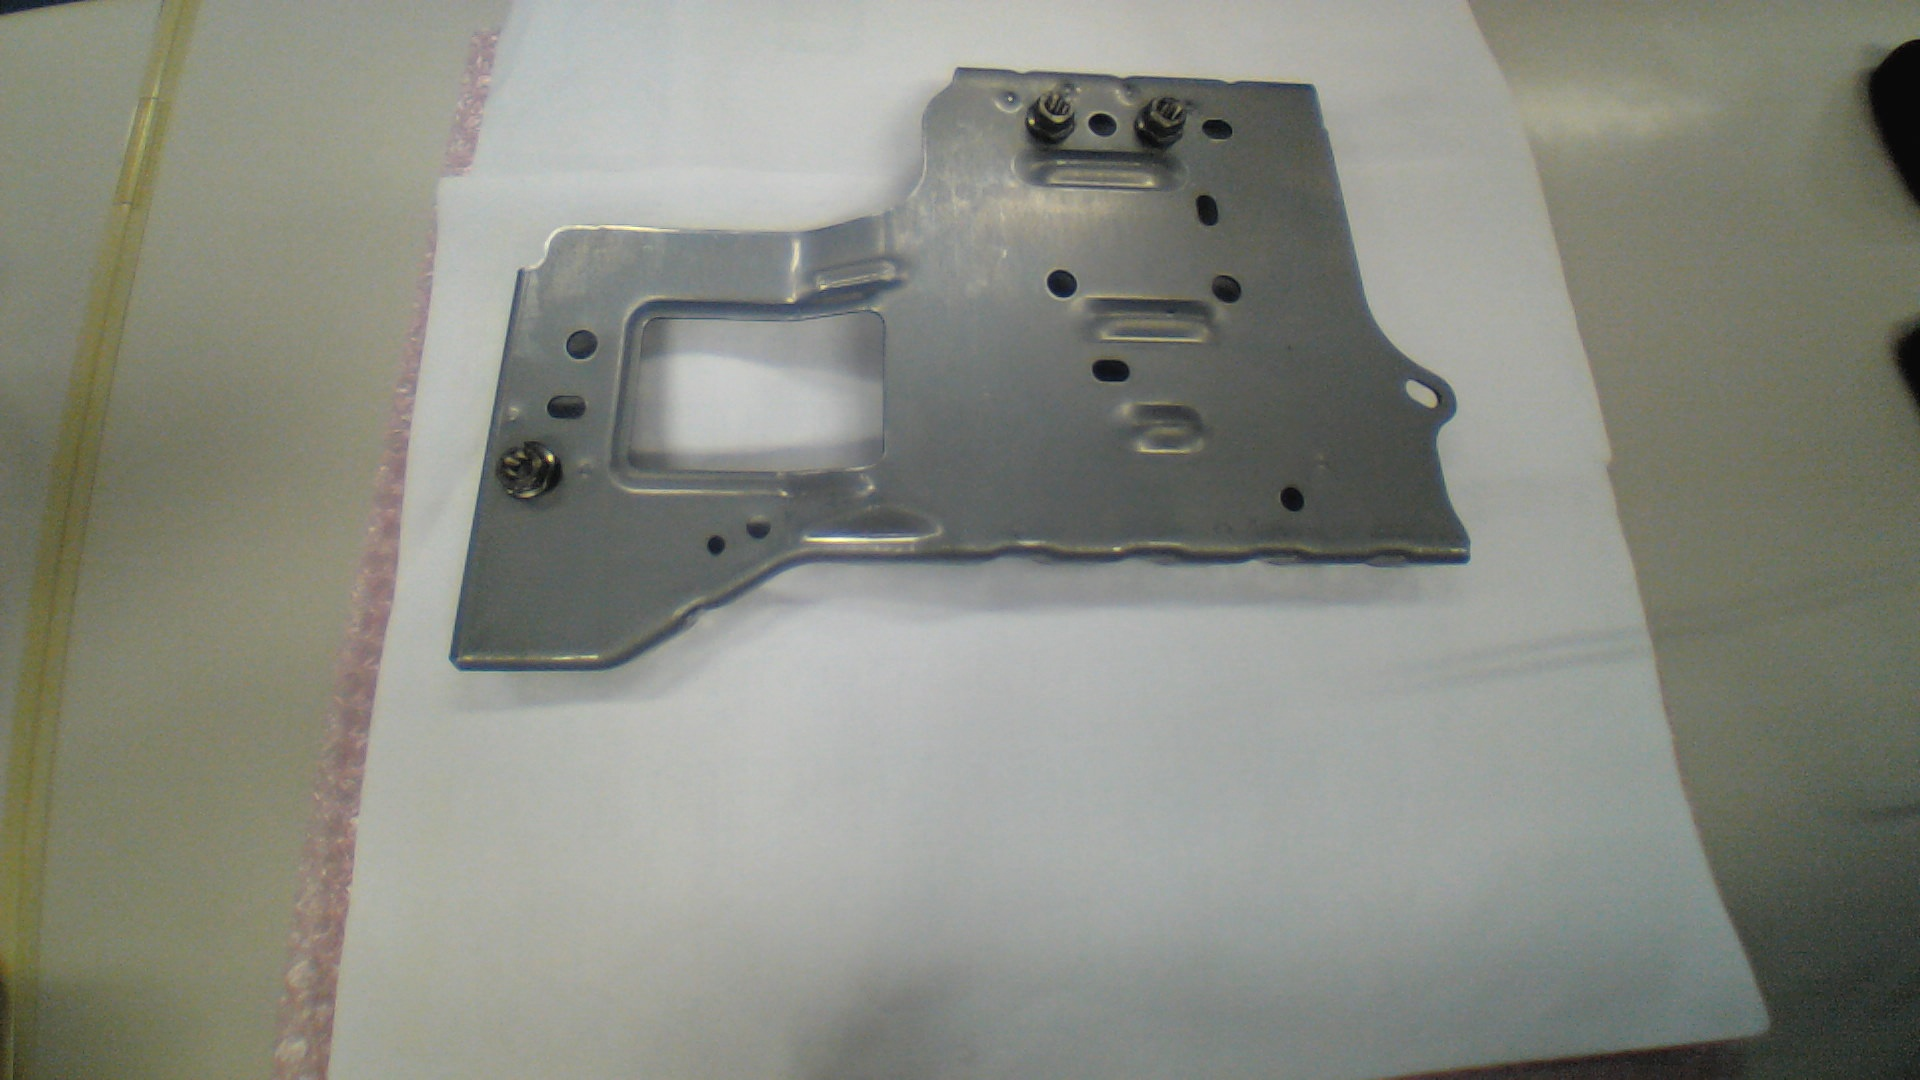dog: (495, 440, 564, 502), (1019, 92, 1079, 142), (1134, 98, 1191, 149)
